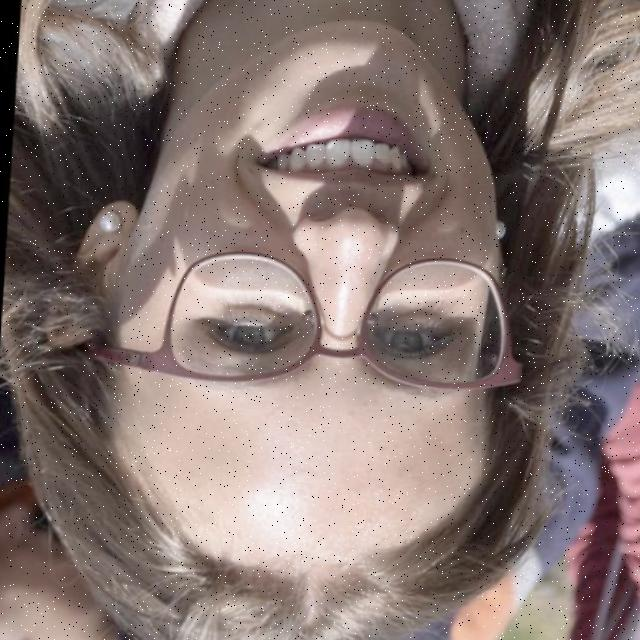puffy_eyes: (207, 302, 281, 323), (372, 312, 451, 331)
